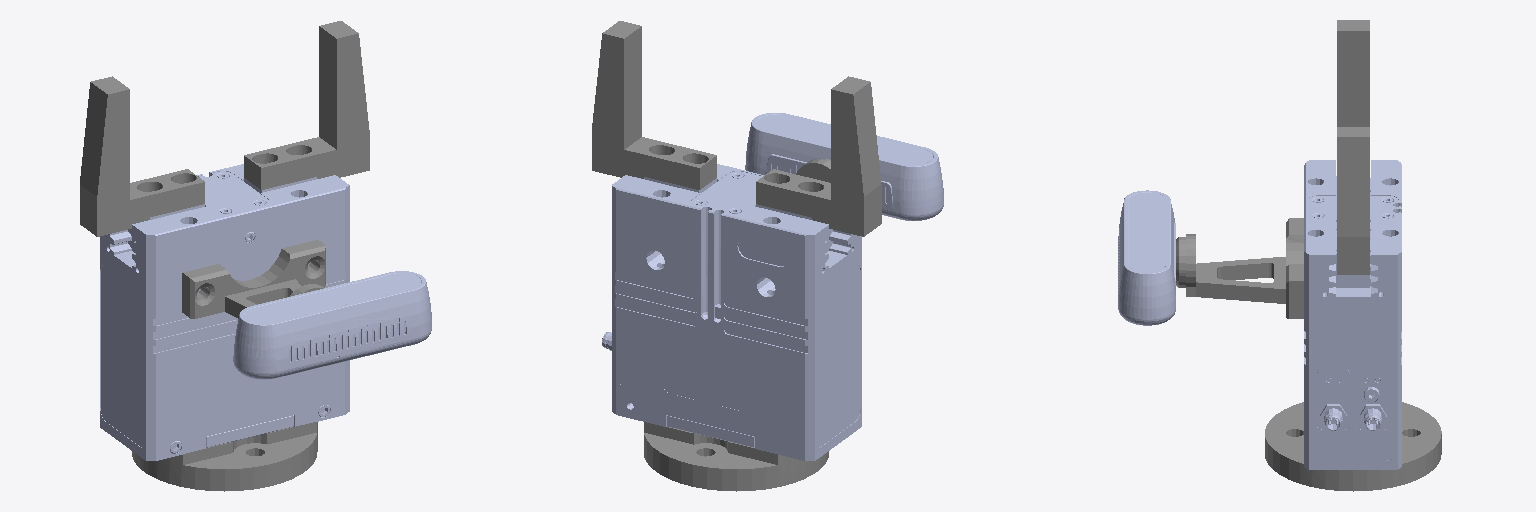
The robot description file, URDF, robot "shunk_gripper":
<?xml version="1.0" encoding="utf-8"?>
<!-- This URDF was automatically created by SolidWorks to URDF Exporter! Originally created by [author] ([email redacted]) 
     Commit Version: 1.6.0-1-g15f4949  Build Version: 1.6.7594.29634
     For more information, please see http://wiki.ros.org/sw_urdf_exporter -->
<robot
  name="shunk_gripper">
  <link name="base_frame">
    <origin xyz="0.0 0.0 0.0" rpy="0.0 0.0 0.0"/>
  </link>
  <link
    name="base_link">
    <!-- <inertial>
      <origin
        xyz="-0.048896928882092 0.00691197886011368 0.0678583065401096"
        rpy="0 0 0" />
      <mass
        value="0.0576318423435791" />
      <inertia
        ixx="1.86470358297814E-05"
        ixy="3.09841340427983E-14"
        ixz="-1.62139628968372E-08"
        iyy="3.97320607331134E-05"
        iyz="1.25117671340888E-16"
        izz="2.30706114164657E-05" />
    </inertial> -->
    <visual>
      <origin
        xyz="0 0 0"
        rpy="0 0 0" />
      <geometry>
        <mesh
          filename="package://shunk_gripper/meshes/base_link.STL" />
      </geometry>
      <material
        name="">
        <color
          rgba="0.627450980392157 0.627450980392157 0.627450980392157 1" />
      </material>
    </visual>
    <!-- <collision>
      <origin
        xyz="0 0 0"
        rpy="0 0 0" />
      <geometry>
        <mesh
          filename="package://shunk_gripper/meshes/base_link.STL" />
      </geometry>
    </collision> -->
  </link>
   <joint name="gripper_origin" type="fixed">
    <parent link="base_frame"/>
    <child link="base_link"/>
    <origin xyz="0.048897 0.067858 0.0" rpy="0.0 0.0 0.0"/>
    
  </joint>
  <link
    name="grip_body">
    <inertial>
      <origin
        xyz="-8.68295533725111E-05 0.0467641073615058 -0.000116431180590112"
        rpy="0 0 0" />
      <mass
        value="0.361330864537367" />
      <inertia
        ixx="0.000332917529789348"
        ixy="-3.82571975355155E-07"
        ixz="1.34213019396549E-07"
        iyy="0.000332256714402802"
        iyz="1.19223396964052E-06"
        izz="0.000554926814710473" />
    </inertial>
    <visual>
      <origin
        xyz="0 0 0"
        rpy="0 0 0" />
      <geometry>
        <mesh
          filename="package://shunk_gripper/meshes/grip_body.STL" />
      </geometry>
      <material
        name="">
        <color
          rgba="0.792156862745098 0.819607843137255 0.933333333333333 1" />
      </material>
    </visual>
    <collision>
      <origin
        xyz="0 0 0"
        rpy="0 0 0" />
      <geometry>
        <mesh
          filename="package://shunk_gripper/meshes/grip_body.STL" />
      </geometry>
    </collision>
  </link>
  <joint
    name="grip_base"
    type="fixed">
    <origin
      xyz="-0.048897 -0.067858 0.0148"
      rpy="1.5708 0 3.1416" />
    <parent
      link="base_link" />
    <child
      link="grip_body" />
    <axis
      xyz="0 0 0" />
    <dynamics
      damping="0"
      friction="0" />
  </joint>
  <link
    name="camera_holder">
    <inertial>
      <origin
        xyz="6.46106293467064E-10 0.088046407440869 -0.0391184966748455"
        rpy="0 0 0" />
      <mass
        value="0.0144943158022944" />
      <inertia
        ixx="6.31922737480024E-06"
        ixy="-2.75191388754803E-14"
        ixz="-9.4625109217647E-14"
        iyy="9.00661195812767E-06"
        iyz="3.21717282411001E-07"
        izz="3.59085835556102E-06" />
    </inertial>
    <visual>
      <origin
        xyz="0 0 0"
        rpy="0 0 0" />
      <geometry>
        <mesh
          filename="package://shunk_gripper/meshes/camera_holder.STL" />
      </geometry>
      <material
        name="">
        <color
          rgba="0.627450980392157 0.627450980392157 0.627450980392157 1" />
      </material>
    </visual>
    <collision>
      <origin
        xyz="0 0 0"
        rpy="0 0 0" />
      <geometry>
        <mesh
          filename="package://shunk_gripper/meshes/camera_holder.STL" />
      </geometry>
    </collision>
  </link>
  <joint
    name="camera_base_hold"
    type="fixed">
    <origin
      xyz="0 -0.01665 -0.00355"
      rpy="0 0 0" />
    <parent
      link="grip_body" />
    <child
      link="camera_holder" />
    <axis
      xyz="0 0 0" />
    <dynamics
      damping="0"
      friction="0" />
  </joint>
  <link
    name="camera">
    <inertial>
      <origin
        xyz="1.34361627268653E-07 0.00153732212526675 0.0125484922794181"
        rpy="0 0 0" />
      <mass
        value="0.0479412438493774" />
      <inertia
        ixx="3.34773593966692E-06"
        ixy="4.26032363849028E-07"
        ixz="-2.31631732591368E-09"
        iyy="2.7386926976946E-05"
        iyz="7.53570140196947E-09"
        izz="2.66453338827626E-05" />
    </inertial>
    <visual>
      <origin
        xyz="0 0 0"
        rpy="0 0 0" />
      <geometry>
        <mesh
          filename="package://shunk_gripper/meshes/camera.STL" />
      </geometry>
      <material
        name="">
        <color
          rgba="0.792156862745098 0.819607843137255 0.933333333333333 1" />
      </material>
    </visual>
    <collision>
      <origin
        xyz="0 0 0"
        rpy="0 0 0" />
      <geometry>
        <mesh
          filename="package://shunk_gripper/meshes/camera.STL" />
      </geometry>
    </collision>
  </link>
  <joint
    name="camera_mount"
    type="fixed">
    <origin
      xyz="0 0.09265 -0.072309"
      rpy="3.1416 0 3.1416" />
    <parent
      link="camera_holder" />
    <child
      link="camera" />
    <axis
      xyz="0 0 0" />
    <dynamics
      damping="0"
      friction="0" />
  </joint>
  <link
    name="left_finger_base">
    <inertial>
      <origin
        xyz="0.0192055090434855 0.0094557334604822 1.42555411919432E-12"
        rpy="0 0 0" />
      <mass
        value="0.0125834070848798" />
      <inertia
        ixx="7.37198350739966E-07"
        ixy="2.78745742331218E-08"
        ixz="-2.57532877946112E-16"
        iyy="1.89504157499018E-06"
        iyz="1.54901113547076E-16"
        izz="1.94410993291815E-06" />
    </inertial>
    <visual>
      <origin
        xyz="0 0 0"
        rpy="0 0 0" />
      <geometry>
        <mesh
          filename="package://shunk_gripper/meshes/left_finger_base.STL" />
      </geometry>
      <material
        name="">
        <color
          rgba="0.792156862745098 0.819607843137255 0.933333333333333 1" />
      </material>
    </visual>
    <collision>
      <origin
        xyz="0 0 0"
        rpy="0 0 0" />
      <geometry>
        <mesh
          filename="package://shunk_gripper/meshes/left_finger_base.STL" />
      </geometry>
    </collision>
  </link>
  <joint
    name="left_slider"
    type="prismatic">
    <origin
      xyz="0.0395 0.08225 0"
      rpy="3.1416 0 3.1416" />
    <parent
      link="grip_body" />
    <child
      link="left_finger_base" />
    <axis
      xyz="1 0 0" />
    <limit
      lower="-0.04"
      upper="0"
      effort="30"
      velocity="1.0" />
    <dynamics
      damping="0"
      friction="0" />
  </joint>
  <link
    name="left_finger">
    <inertial>
      <origin
        xyz="0.0502008287439572 0.146475875110397 -8.21620549373847E-13"
        rpy="0 0 0" />
      <mass
        value="0.0167372132053273" />
      <inertia
        ixx="5.89412760310316E-06"
        ixy="-1.39403449769578E-06"
        ixz="-4.73189036164482E-12"
        iyy="2.60646551970119E-06"
        iyz="-1.88830086429151E-16"
        izz="7.89098623503947E-06" />
    </inertial>
    <visual>
      <origin
        xyz="0 0 0"
        rpy="0 0 0" />
      <geometry>
        <mesh
          filename="package://shunk_gripper/meshes/left_finger.STL" />
      </geometry>
      <material
        name="">
        <color
          rgba="0.627450980392157 0.627450980392157 0.627450980392157 1" />
      </material>
    </visual>
    <collision>
      <origin
        xyz="0 0 0"
        rpy="0 0 0" />
      <geometry>
        <mesh
          filename="package://shunk_gripper/meshes/left_finger.STL" />
      </geometry>
    </collision>
  </link>
  <joint
    name="lfinger_mount"
    type="fixed">
    <origin
      xyz="0.0398 -0.10507 0"
      rpy="3.1416 0 3.1416" />
    <parent
      link="left_finger_base" />
    <child
      link="left_finger" />
    <axis
      xyz="0 0 0" />
  </joint>
  <link
    name="right_finger_base">
    <inertial>
      <origin
        xyz="0.0192055090434855 0.0094557334604822 1.42555411919432E-12"
        rpy="0 0 0" />
      <mass
        value="0.0125834070848798" />
      <inertia
        ixx="7.37198350739967E-07"
        ixy="2.78745742331223E-08"
        ixz="-2.57529096873753E-16"
        iyy="1.89504157499019E-06"
        iyz="1.54901698262266E-16"
        izz="1.94410993291815E-06" />
    </inertial>
    <visual>
      <origin
        xyz="0 0 0"
        rpy="0 0 0" />
      <geometry>
        <mesh
          filename="package://shunk_gripper/meshes/right_finger_base.STL" />
      </geometry>
      <material
        name="">
        <color
          rgba="0.792156862745098 0.819607843137255 0.933333333333333 1" />
      </material>
    </visual>
    <collision>
      <origin
        xyz="0 0 0"
        rpy="0 0 0" />
      <geometry>
        <mesh
          filename="package://shunk_gripper/meshes/right_finger_base.STL" />
      </geometry>
    </collision>
  </link>
  <joint
    name="right_slider"
    type="prismatic">
    <origin
      xyz="-0.0395 0.08225 0"
      rpy="0 0 0" />
    <parent
      link="grip_body" />
    <child
      link="right_finger_base" />
    <axis
      xyz="1 0 0" />
    <limit
      lower="-0.04"
      upper="0"
      effort="30"
      velocity="1.0" />
    <dynamics
      damping="0"
      friction="0" />
  </joint>
  <link
    name="right_finger">
    <inertial>
      <origin
        xyz="0.0496008283624874 0.146475875110399 -8.22841794700935E-13"
        rpy="0 0 0" />
      <mass
        value="0.0167372132053273" />
      <inertia
        ixx="5.89412760310315E-06"
        ixy="-1.39403449769578E-06"
        ixz="-4.73189036217964E-12"
        iyy="2.60646551970119E-06"
        iyz="-1.88831163534259E-16"
        izz="7.89098623503947E-06" />
    </inertial>
    <visual>
      <origin
        xyz="0 0 0"
        rpy="0 0 0" />
      <geometry>
        <mesh
          filename="package://shunk_gripper/meshes/right_finger.STL" />
      </geometry>
      <material
        name="">
        <color
          rgba="0.627450980392157 0.627450980392157 0.627450980392157 1" />
      </material>
    </visual>
    <collision>
      <origin
        xyz="0 0 0"
        rpy="0 0 0" />
      <geometry>
        <mesh
          filename="package://shunk_gripper/meshes/right_finger.STL" />
      </geometry>
    </collision>
  </link>
  <joint
    name="rfinger_mount"
    type="fixed">
    <origin
      xyz="0.0391999998092651 -0.105069997787476 0"
      rpy="3.14159265358978 0 3.14159265358979" />
    <parent
      link="right_finger_base" />
    <child
      link="right_finger" />
    <axis
      xyz="0 0 0" />
  </joint>
</robot>

--- Render facts (derived) ---
The picture shows the robot from 3 angles, left to right: view 1: azimuth 30°, elevation 25°; view 2: azimuth 150°, elevation 25°; view 3: azimuth 270°, elevation 25°; orthographic projection.
Robot: shunk_gripper — 9 links, 8 joints (2 prismatic, 6 fixed); root link base_frame; default pose: every joint at zero.
Visible links, largest first — view 1: grip_body, camera, left_finger, right_finger, base_link, camera_holder; view 2: grip_body, left_finger, right_finger, camera, base_link, camera_holder; view 3: grip_body, camera, base_link, camera_holder, right_finger, left_finger, right_finger_base.
Boxes of the visible links, x1,y1,x2,y2 form: grip_body: (100, 164, 349, 460); camera: (233, 271, 431, 379); left_finger: (80, 76, 204, 236); right_finger: (244, 21, 369, 189); base_link: (132, 422, 317, 491); camera_holder: (182, 240, 325, 318); grip_body: (602, 164, 861, 460); left_finger: (756, 76, 881, 236); right_finger: (592, 21, 716, 189); camera: (745, 113, 943, 220); base_link: (644, 422, 828, 491); camera_holder: (796, 159, 830, 182); grip_body: (1304, 160, 1401, 469); camera: (1118, 190, 1175, 325); base_link: (1265, 402, 1441, 491); camera_holder: (1176, 218, 1303, 318); right_finger: (1337, 127, 1369, 274); left_finger: (1337, 20, 1369, 126); right_finger_base: (1336, 222, 1370, 287).
Size in the robot's own frame: 0.1284 by 0.1389 by 0.1778 metres.
Meshes: 8 distinct files referenced, 8 mesh visuals loaded (8 binary STL).